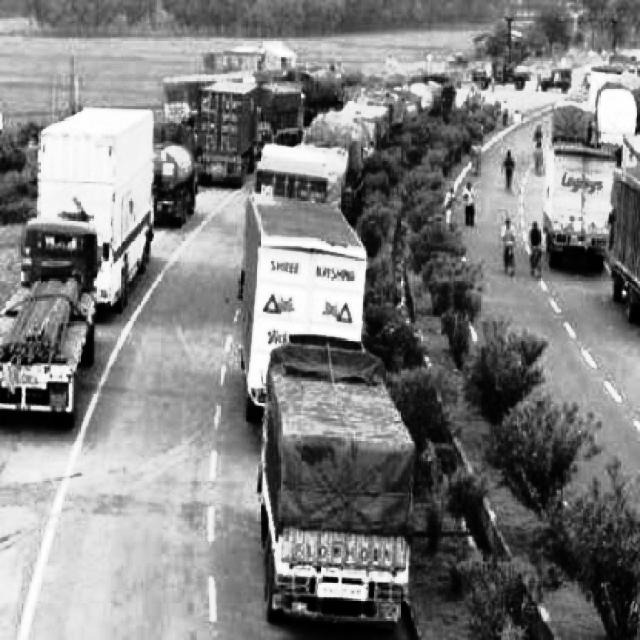HCV: (258, 335, 407, 640), (240, 166, 375, 429), (32, 77, 155, 305), (5, 214, 90, 430), (537, 115, 621, 258), (177, 62, 268, 188), (323, 75, 389, 181), (255, 129, 313, 215), (615, 152, 640, 327), (400, 51, 438, 123)
